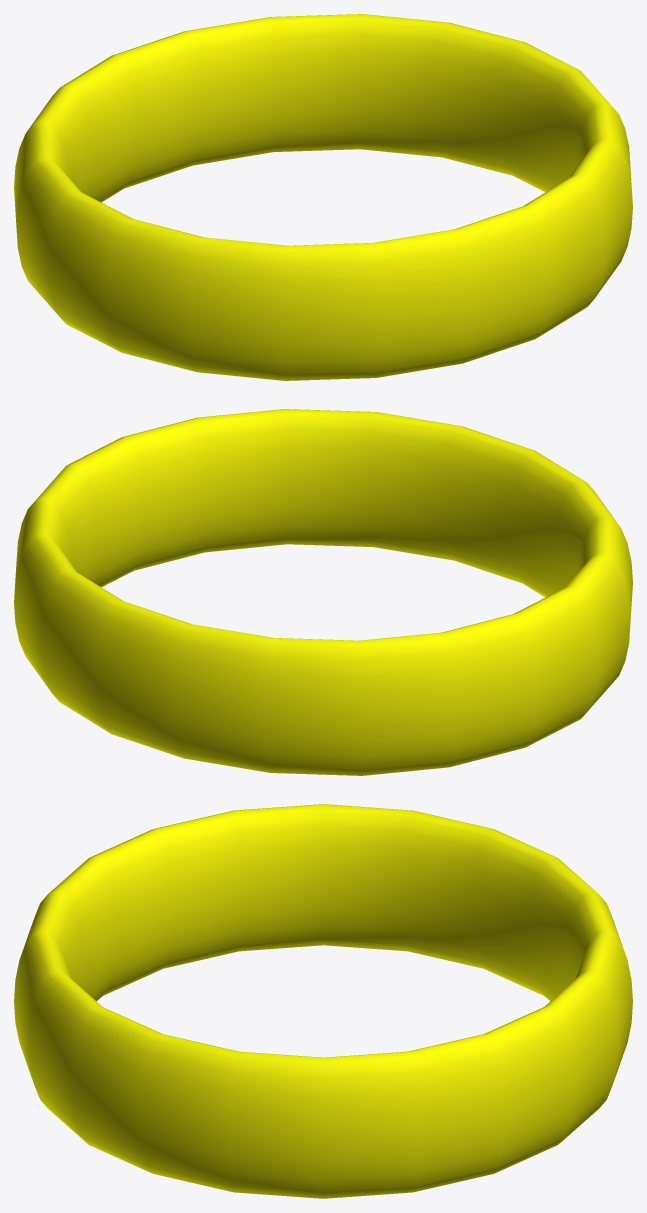
The picture shows the model from 3 angles, top to bottom: view 1: azimuth 30°, elevation 25°; view 2: azimuth 150°, elevation 25°; view 3: azimuth 270°, elevation 25°; orthographic projection. The views are drawn at different scales.
Parts seen in each view (by area): view 1: superman:pTorus4; view 2: superman:pTorus4; view 3: superman:pTorus4.
Boxes of the visible parts, bbox=[...] form: superman:pTorus4: bbox=[14, 14, 632, 380]; superman:pTorus4: bbox=[14, 409, 632, 775]; superman:pTorus4: bbox=[14, 804, 632, 1198].
Bounding box in the file's own units: 2.2 × 0.5157 × 2.06.
